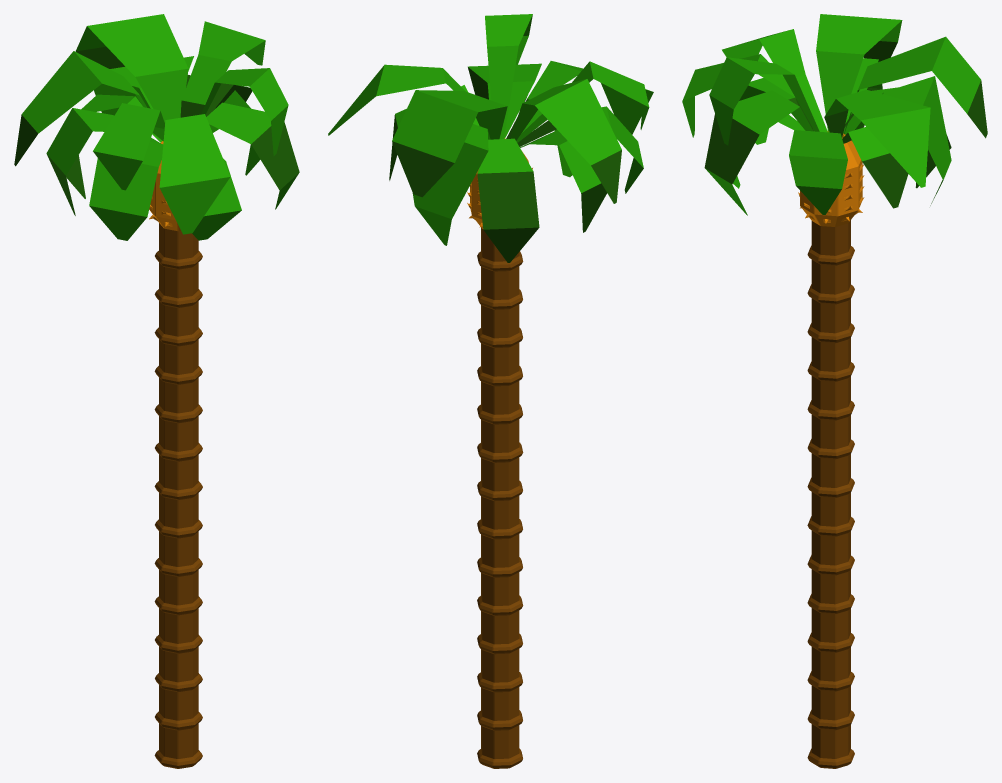
The model's file is palmera.obj.
3 views of the same model, side by side, from view 1: azimuth 30°, elevation 25°; view 2: azimuth 150°, elevation 25°; view 3: azimuth 270°, elevation 25° (orthographic).
Visible parts, largest first — view 1: Cylinder.013; view 2: Cylinder.013; view 3: Cylinder.013.
Part boxes in pixels (x1,y1,x2,y2): Cylinder.013: (14, 14, 299, 768); Cylinder.013: (328, 14, 653, 768); Cylinder.013: (682, 14, 987, 768).
Size of the model in its own units: 1.51 by 3.82 by 1.48.
